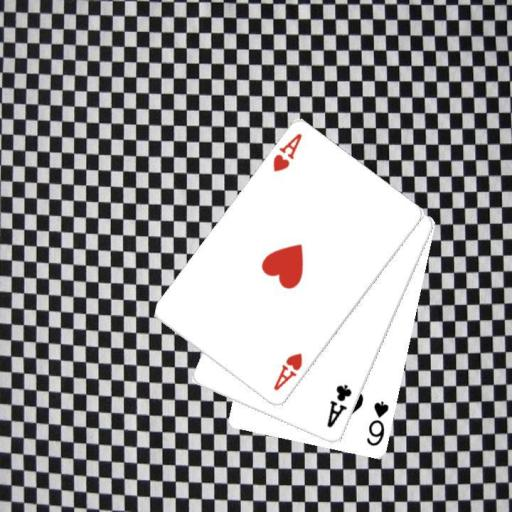6S: (364, 398, 391, 448)
AC: (324, 382, 354, 429)
AH: (270, 130, 304, 174), (271, 350, 305, 392)
